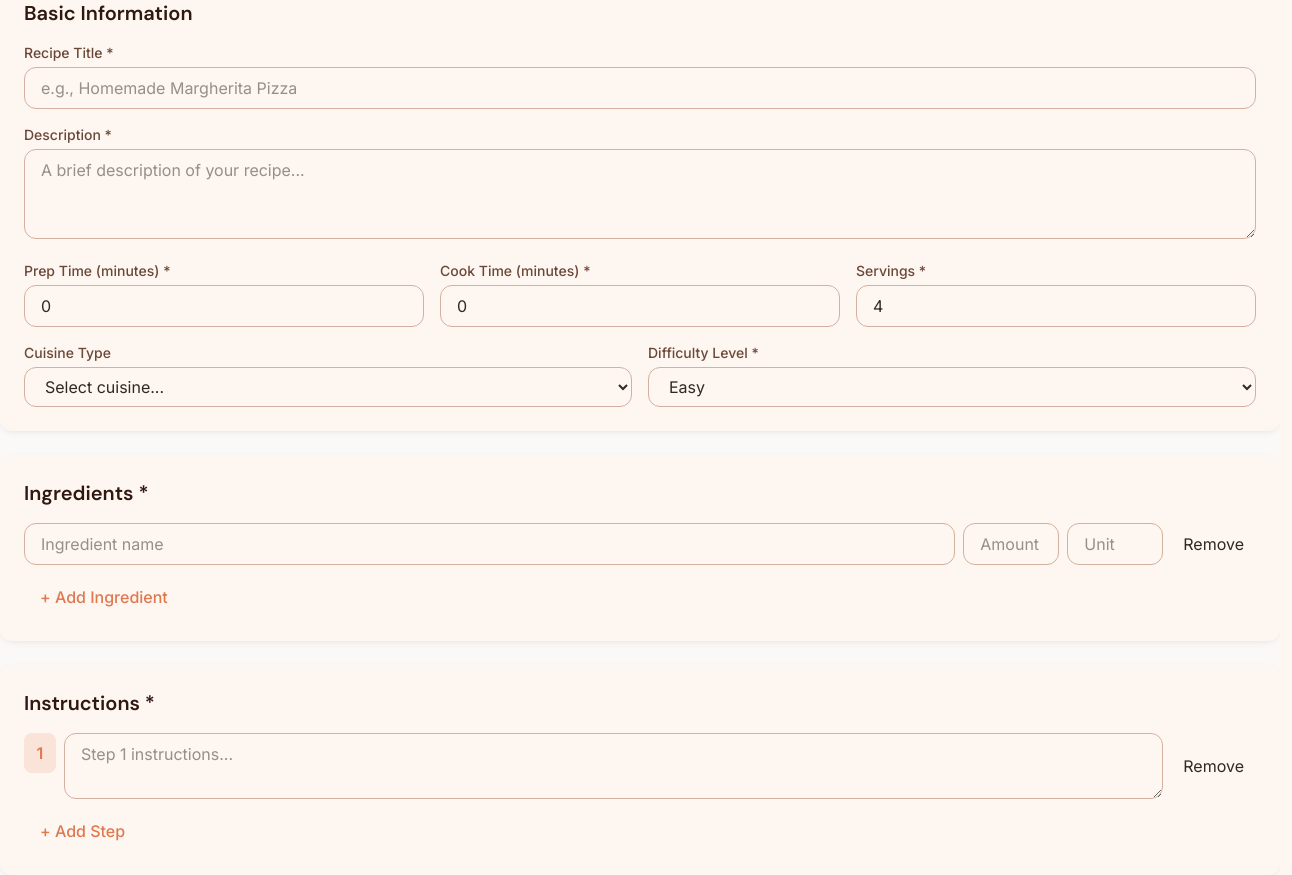
Scenario: RecipeForm › Validation › should show error for no valid ingredients
Type "Test Recipe" into the field with placeholder "e.g., Homemade Margherita Pizza" at (640, 88), box [24,67,1256,109]
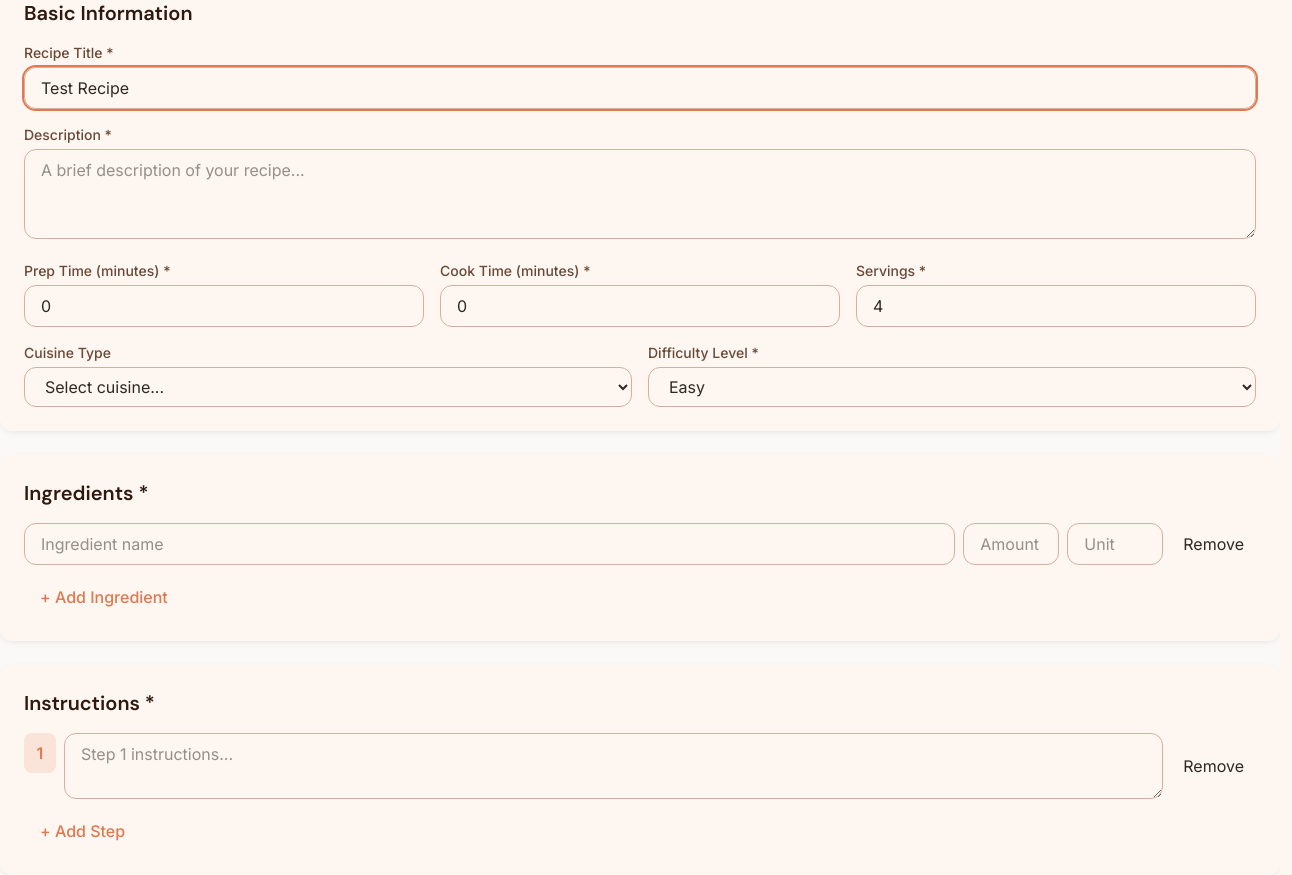
Type "Test description" into the text box with placeholder "A brief description of your recipe..." at (640, 194), box [24,149,1256,239]
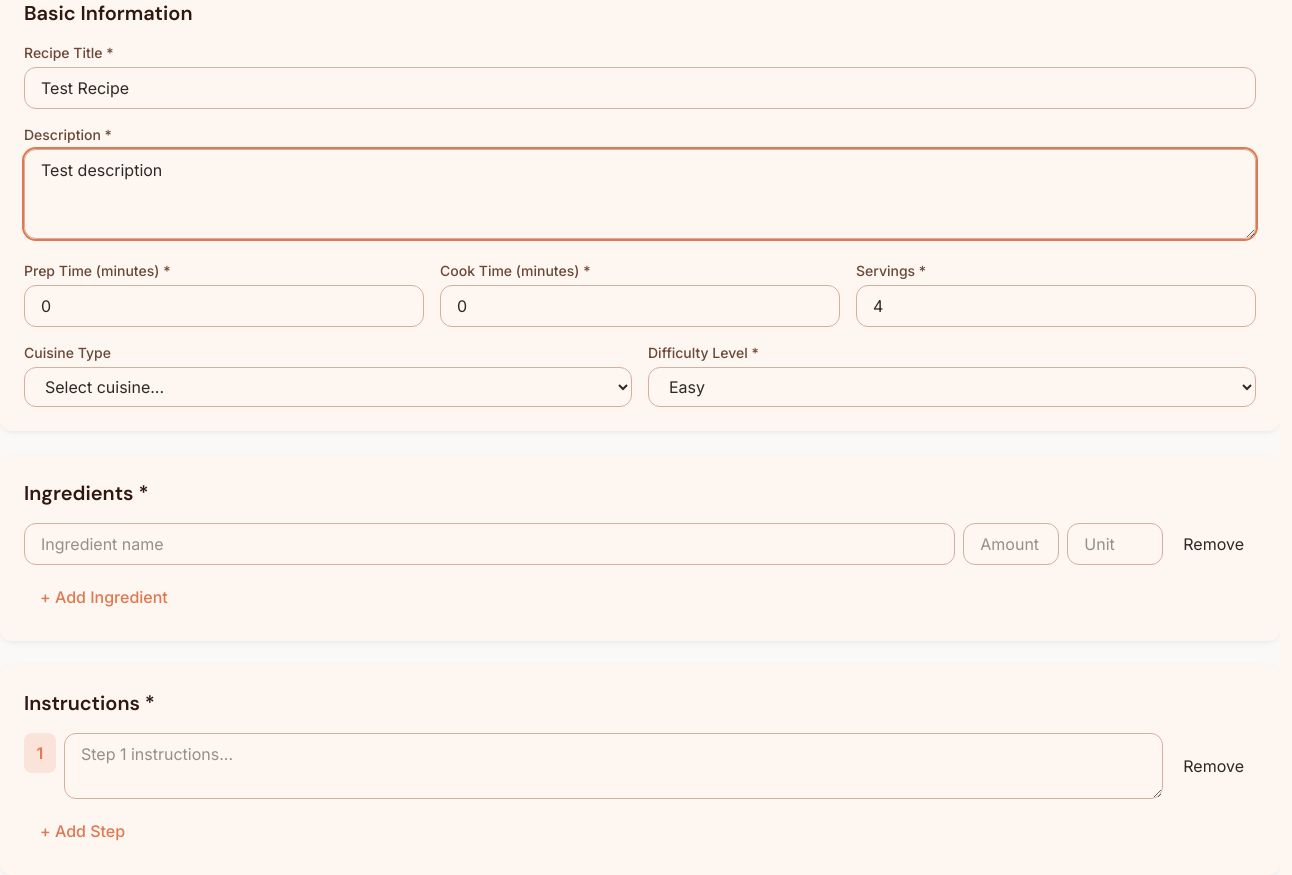
Type "Mix" into the text box with placeholder "Step 1 instructions..." at (614, 766), box [64,733,1163,799]
(page scrolled)
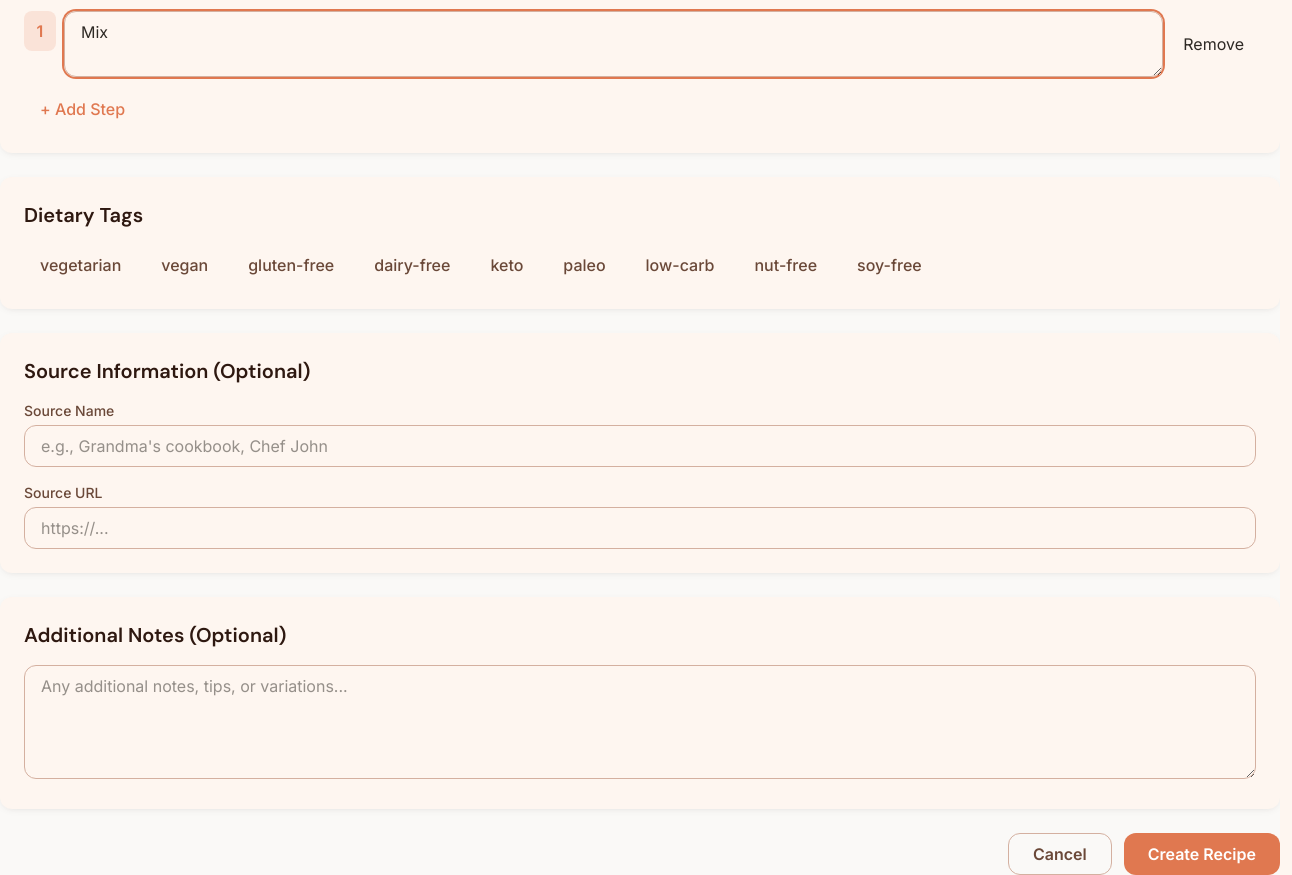
Click the button "Create Recipe" at (1202, 854), box [1124,833,1280,874]
(page scrolled)
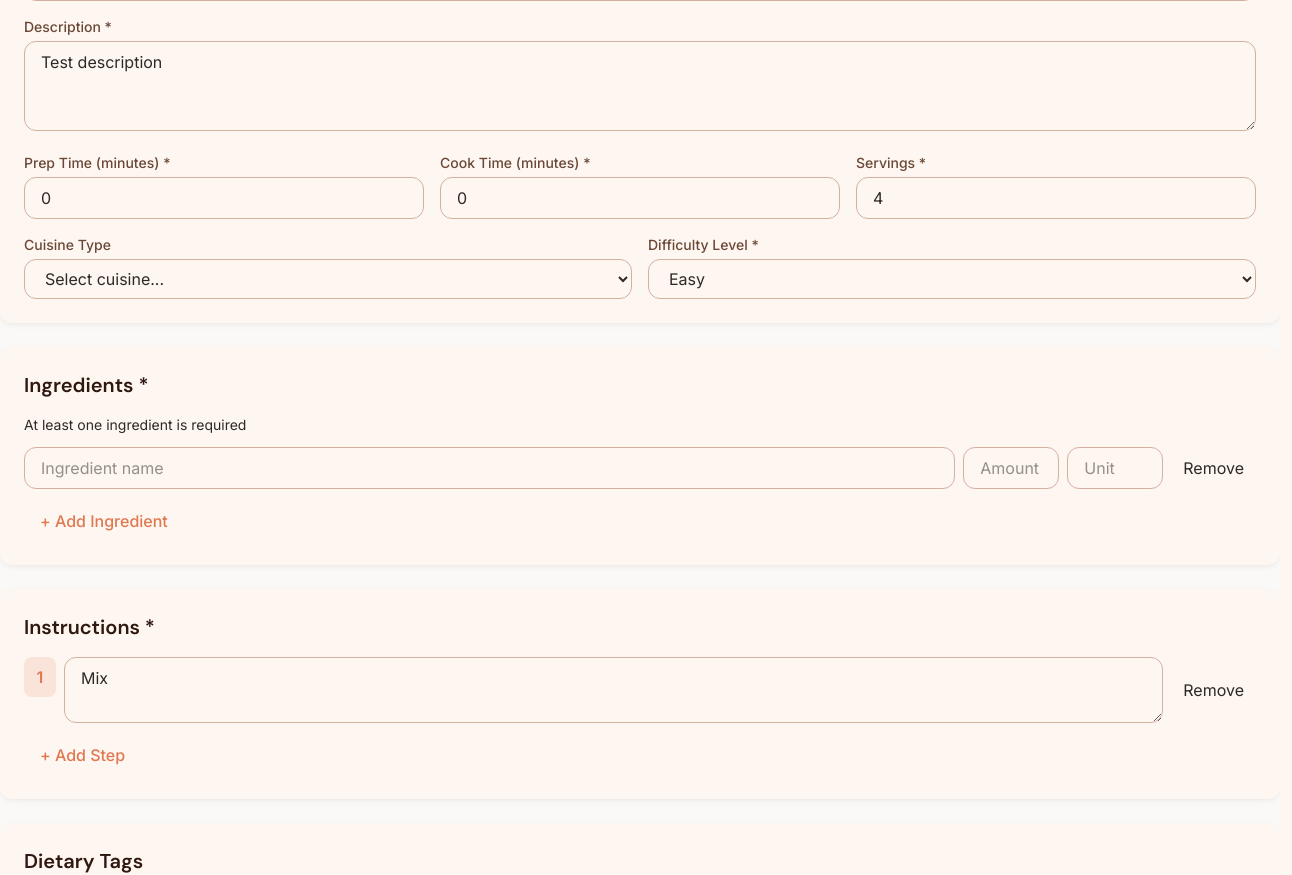
Expected: the text "At least one ingredient is required" is shown, [24,416,246,433]
